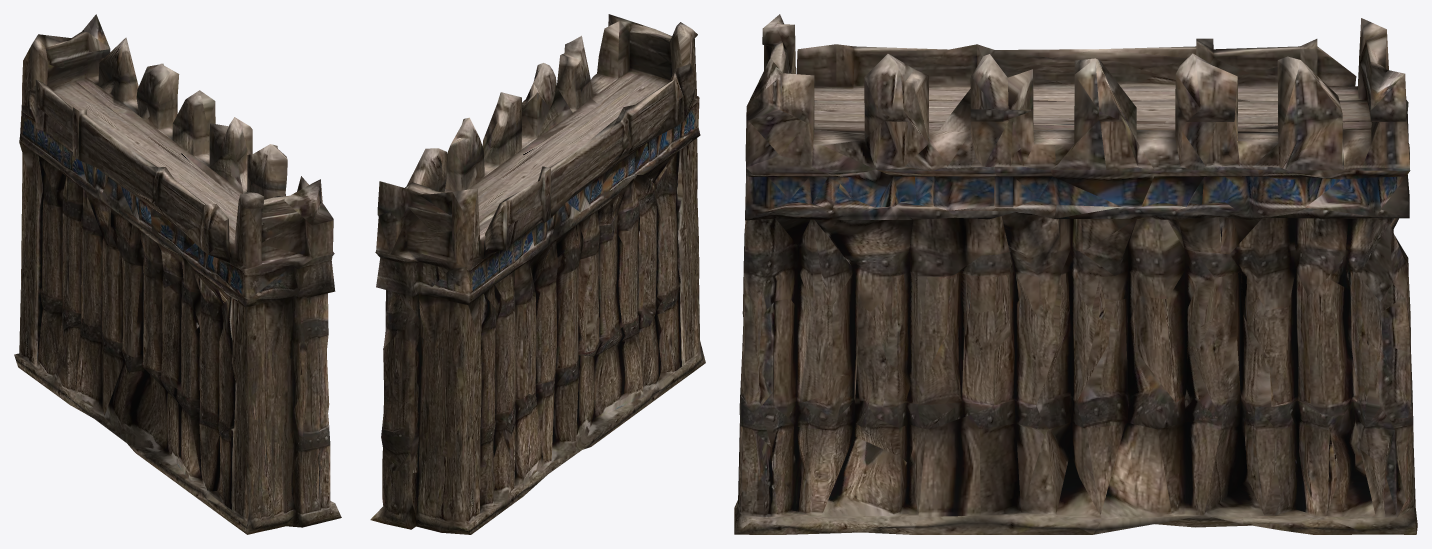
The model's file is castle_wall_wood.glb.
3 renders of one model, left to right at view 1: azimuth 30°, elevation 25°; view 2: azimuth 150°, elevation 25°; view 3: azimuth 270°, elevation 25°, orthographic. The views are drawn at different scales.
Parts seen in each view (by area): view 1: tripo_node_e00a12d8-df66-44d4-93df-fbb81e9339c7; view 2: tripo_node_e00a12d8-df66-44d4-93df-fbb81e9339c7; view 3: tripo_node_e00a12d8-df66-44d4-93df-fbb81e9339c7.
Part boxes in pixels (left/top/right/bottom): tripo_node_e00a12d8-df66-44d4-93df-fbb81e9339c7: left=14, top=14, right=341, bottom=534; tripo_node_e00a12d8-df66-44d4-93df-fbb81e9339c7: left=370, top=14, right=705, bottom=534; tripo_node_e00a12d8-df66-44d4-93df-fbb81e9339c7: left=734, top=14, right=1417, bottom=534.
Bounding box in the file's own units: 0.2247 × 0.7417 × 0.9769.
Materials: 1 (1 with a texture image).
